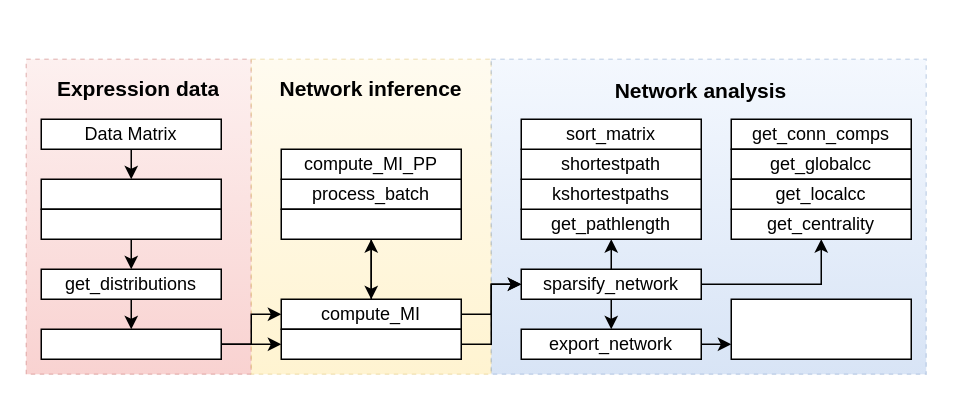
Image size: 953x401. Some labels were removed from this diagram. The centre of each missing label's shape, as x and y in pixels:
compute_MI_batch: pixel 370 343
fetch_results: pixel 370 223
get_entropy: pixel 130 343
Network visualization software (Gephi): pixel 820 328
normalize_GEM: pixel 130 193
shuffle_GEM: pixel 130 223
